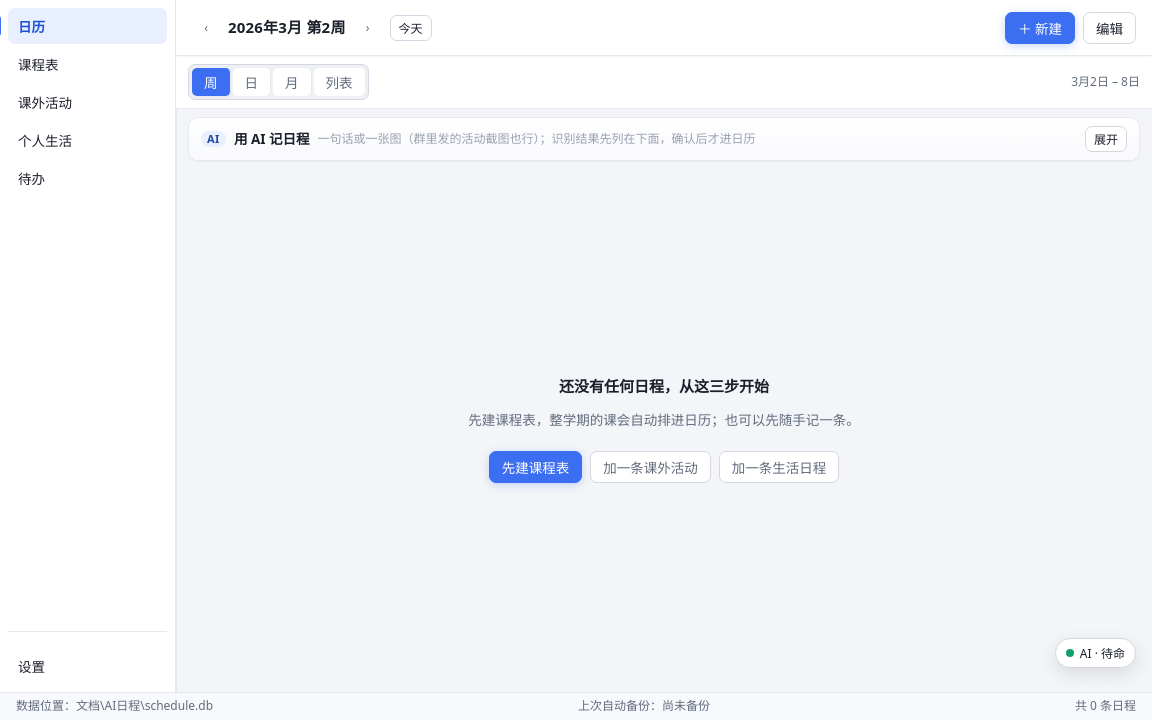
课程表页接入数据 › 删除课程后网格里消失
The image size is (1152, 720).
Click the button "课程表" at (88, 64), box [8, 46, 167, 82]
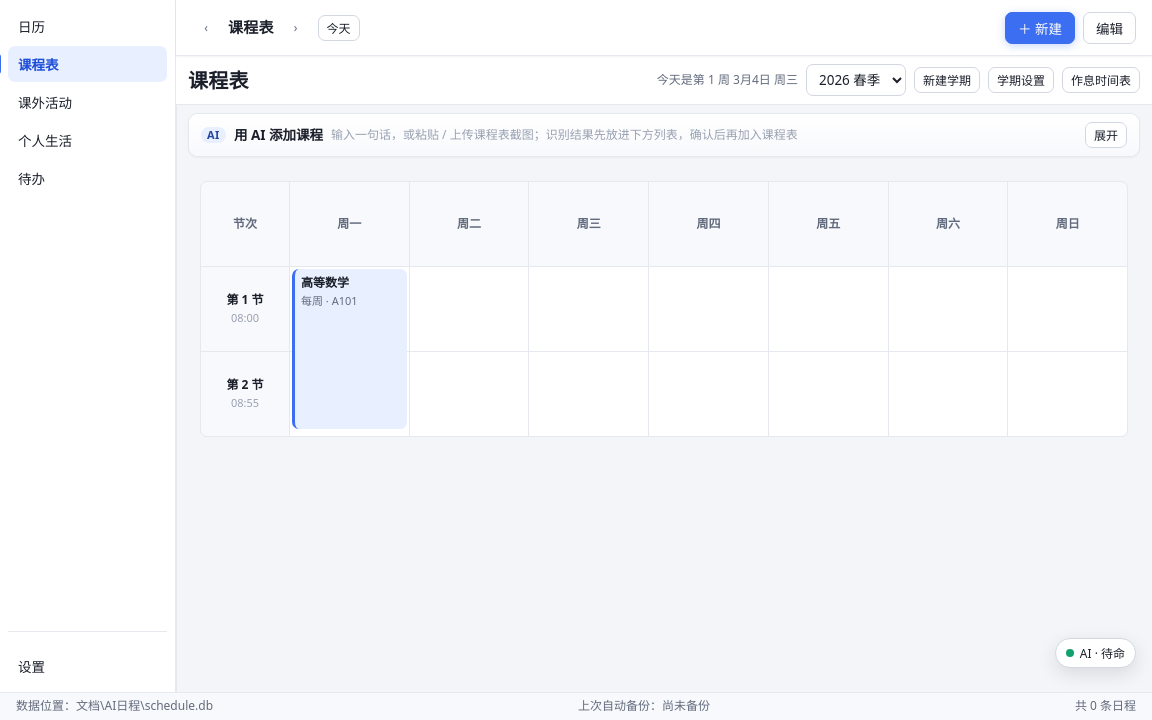
expect the element with test id "course-table" is shown: met, box [200, 181, 1128, 437]
Click the button with test id "course-c1" at (349, 349), box [292, 269, 407, 429]
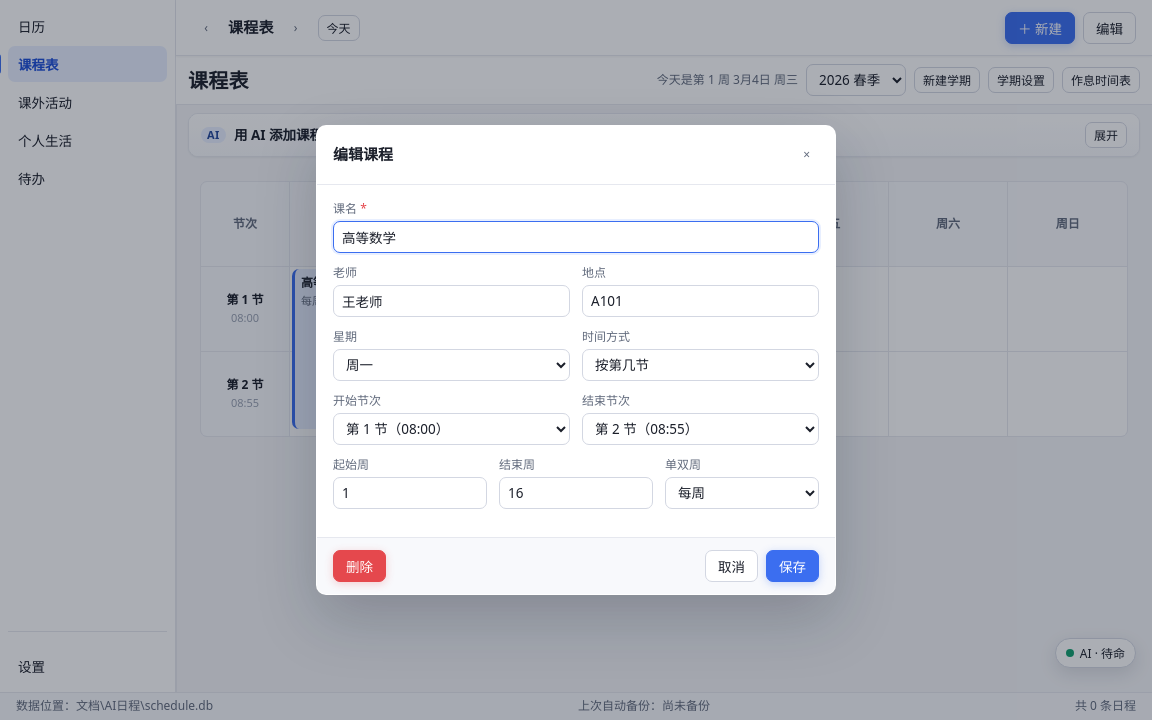
Click the button "删除" at (360, 566), box [333, 550, 386, 582]
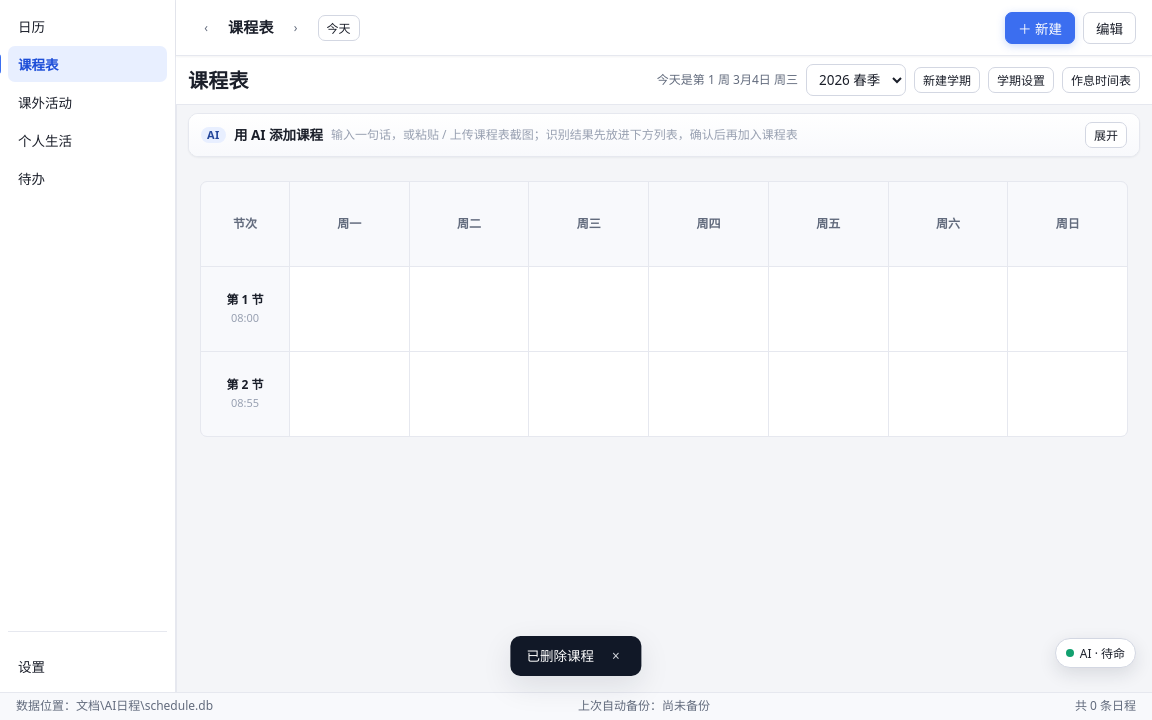
expect the button with test id "course-c1" is gone: met
